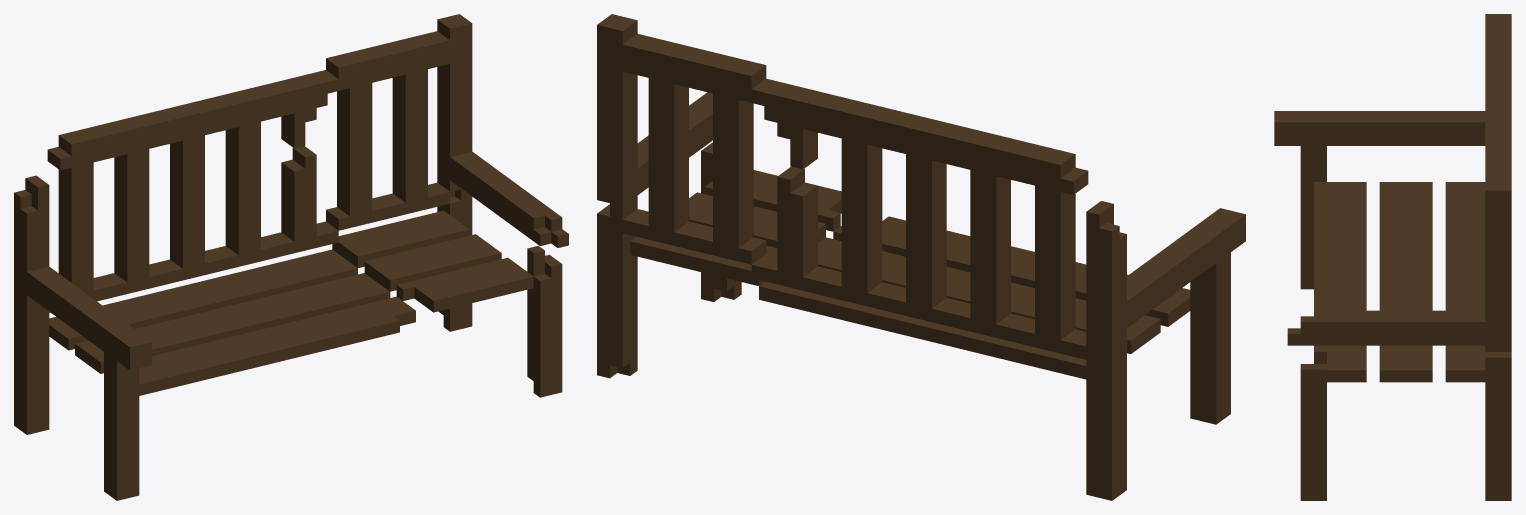
The model's file is Background_A_decowood_02.FBX.
The picture shows the model from 3 angles, left to right: view 1: azimuth 30°, elevation 25°; view 2: azimuth 150°, elevation 25°; view 3: azimuth 270°, elevation 25°; orthographic projection. The views are drawn at different scales.
Parts seen in each view (by area): view 1: Load_A-16; view 2: Load_A-16; view 3: Load_A-16.
Boxes of the visible parts, x1=… form: Load_A-16: x1=14, y1=14, x2=568, y2=500; Load_A-16: x1=597, y1=14, x2=1245, y2=500; Load_A-16: x1=1274, y1=14, x2=1511, y2=500.
Bounding box in the file's own units: 4 × 2.6 × 1.8.
1 material, 1 textured.
